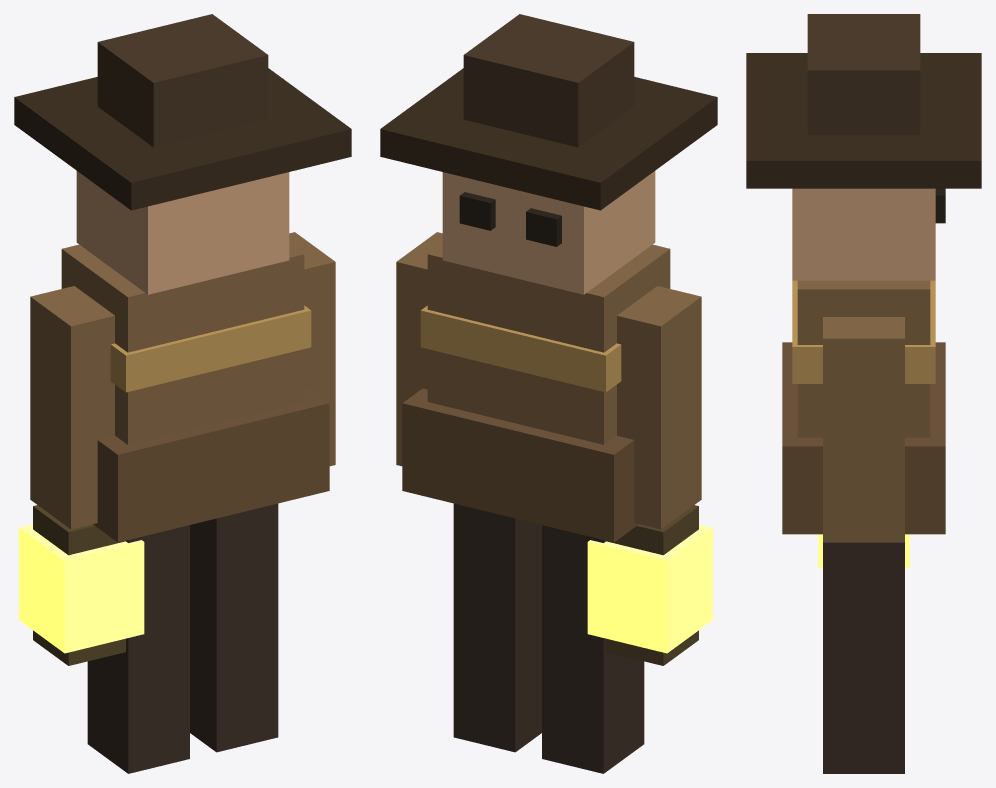
Rendered from wick.glb.
3 renders of one model, left to right at view 1: azimuth 30°, elevation 25°; view 2: azimuth 150°, elevation 25°; view 3: azimuth 270°, elevation 25°, orthographic.
Visible parts, largest first — view 1: body, coat, leg_b, arm_a, leg_a, lantern, arm_b; view 2: body, coat, leg_b, arm_a, leg_a, lantern, arm_b; view 3: body, coat, leg_b, arm_b.
Part boxes in pixels (left/top/right/bottom): body: left=14, top=14, right=351, bottom=294; coat: left=61, top=243, right=329, bottom=542; leg_b: left=190, top=503, right=278, bottom=752; arm_a: left=30, top=286, right=114, bottom=529; leg_a: left=87, top=525, right=189, bottom=773; lantern: left=19, top=505, right=144, bottom=665; arm_b: left=289, top=232, right=335, bottom=466; body: left=380, top=14, right=717, bottom=294; coat: left=402, top=243, right=670, bottom=542; leg_b: left=453, top=503, right=541, bottom=752; arm_a: left=617, top=286, right=701, bottom=529; leg_a: left=542, top=525, right=644, bottom=773; lantern: left=587, top=505, right=712, bottom=665; arm_b: left=396, top=232, right=442, bottom=466; body: left=746, top=14, right=981, bottom=280; coat: left=782, top=280, right=945, bottom=534; leg_b: left=823, top=542, right=904, bottom=773; arm_b: left=823, top=317, right=904, bottom=542.
Bounding box in the file's own units: 0.62 × 1.5 × 0.46.
